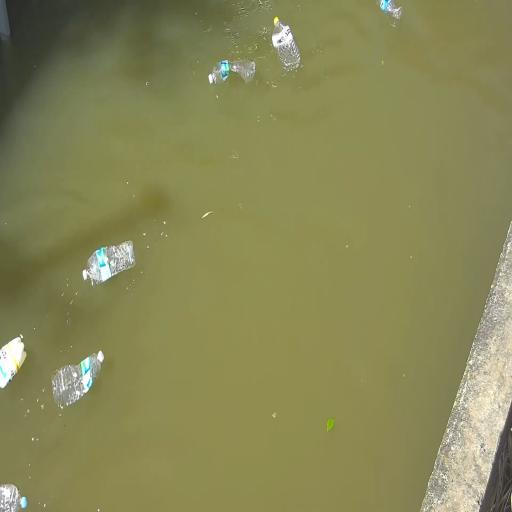plastic: (52, 351, 103, 408), (83, 241, 135, 284), (272, 17, 300, 72), (0, 335, 26, 388), (209, 61, 255, 83), (0, 485, 27, 511)
